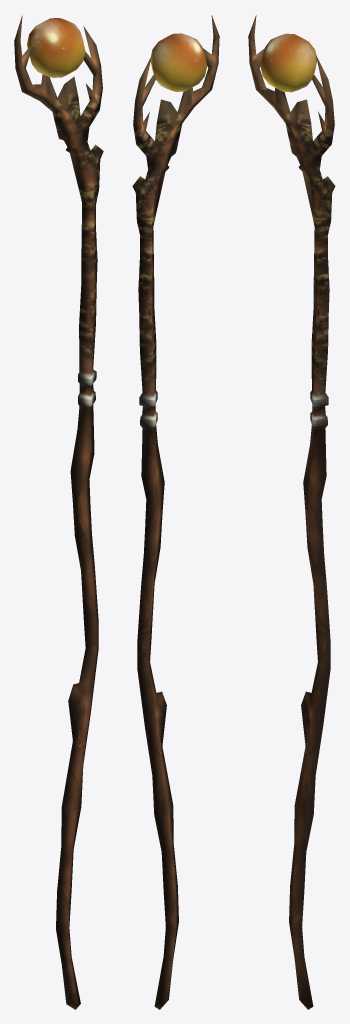
The model's file is staff06.fbx.
The picture shows the model from 3 angles, left to right: view 1: azimuth 30°, elevation 25°; view 2: azimuth 210°, elevation 25°; view 3: azimuth 330°, elevation 25°; orthographic projection. The views are drawn at different scales.
Visible parts, largest first — view 1: Staff06; view 2: Staff06; view 3: Staff06.
Part boxes in pixels (x1,y1,x2,y2): Staff06: (14,15,103,1009); Staff06: (132,15,219,1009); Staff06: (248,15,335,1009).
Size of the model in its own units: 0.1595 by 1.72 by 0.0935.
